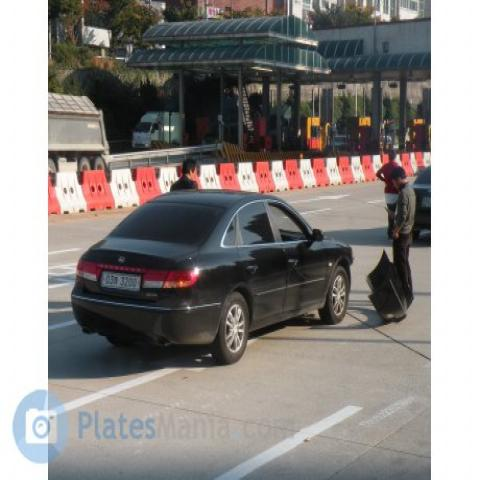LP: (95, 263, 145, 299)
